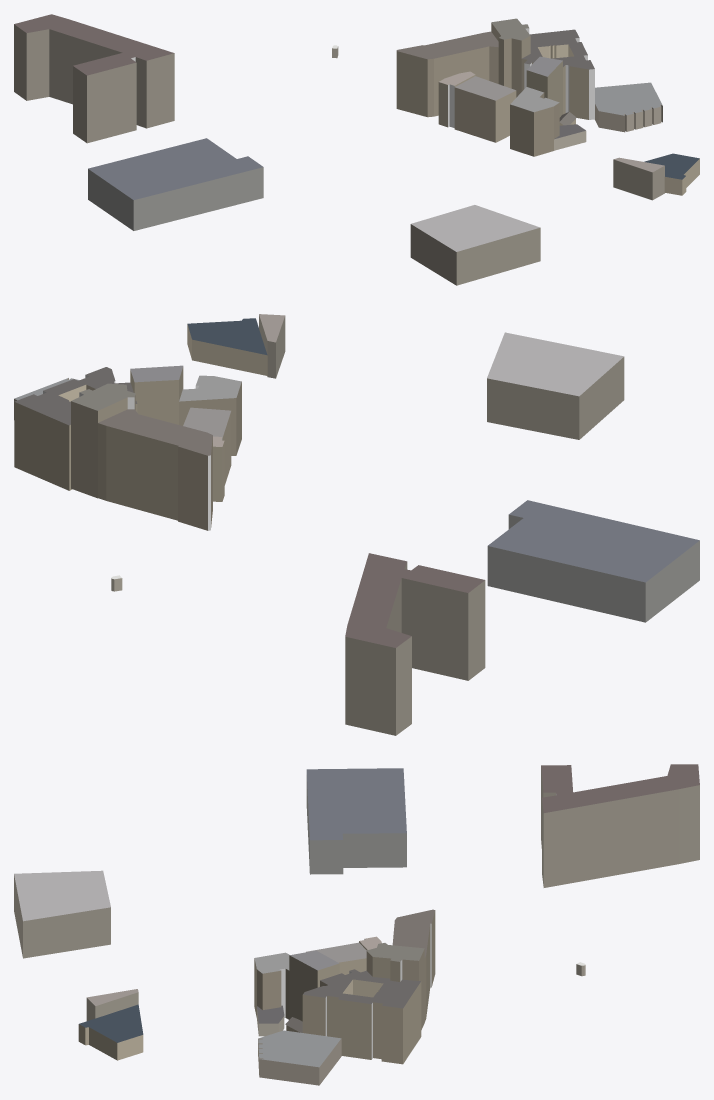
3 renders of one model, top to bottom at view 1: azimuth 30°, elevation 25°; view 2: azimuth 150°, elevation 25°; view 3: azimuth 270°, elevation 25°, orthographic. The views are drawn at different scales.
Parts seen in each view (by area): view 1: tuile; view 2: tuile; view 3: tuile.
Boxes of the visible parts, x1=… form: tuile: x1=14, y1=14, x2=699, y2=285; tuile: x1=14, y1=314, x2=699, y2=735; tuile: x1=14, y1=764, x2=699, y2=1085.
Bounding box in the file's own units: 282 × 37.88 × 288.
